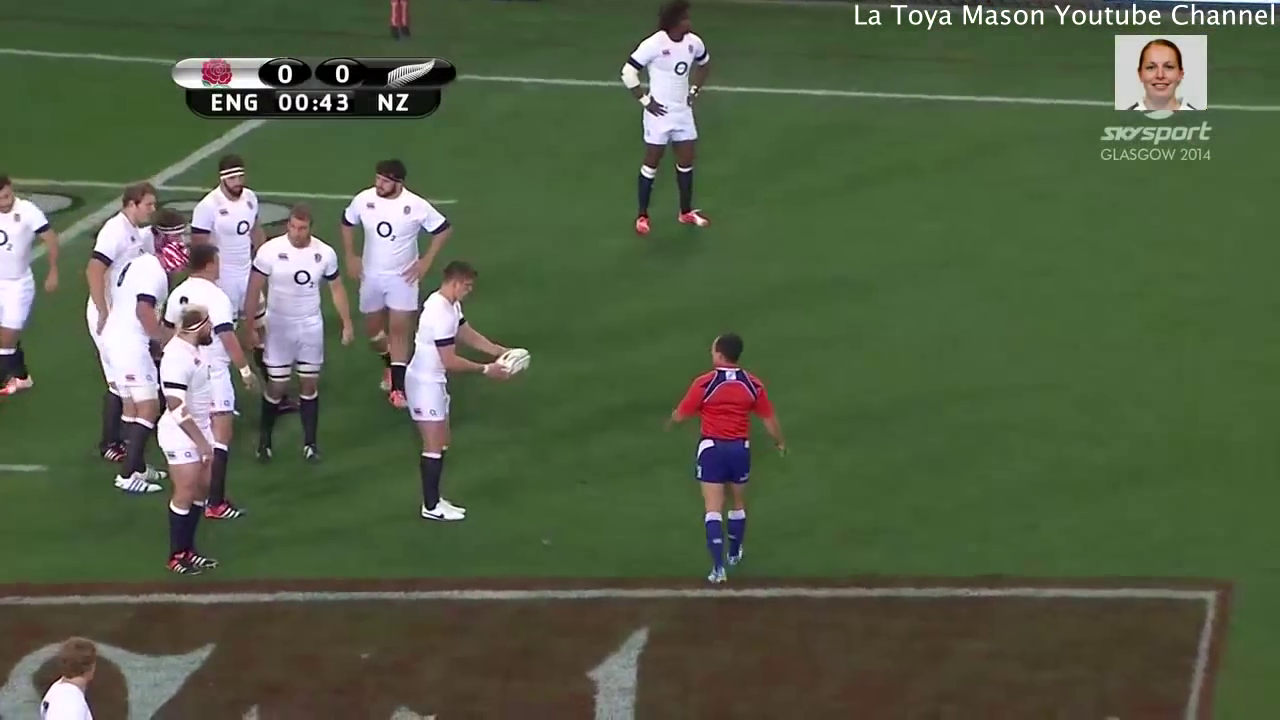ball: (480, 334, 540, 384)
player: (652, 332, 790, 589), (326, 155, 461, 416), (617, 1, 729, 248), (394, 255, 497, 523), (241, 199, 341, 472), (141, 301, 231, 586), (104, 241, 161, 508), (1, 168, 62, 408), (183, 155, 262, 284), (157, 239, 241, 328), (93, 174, 155, 264)
